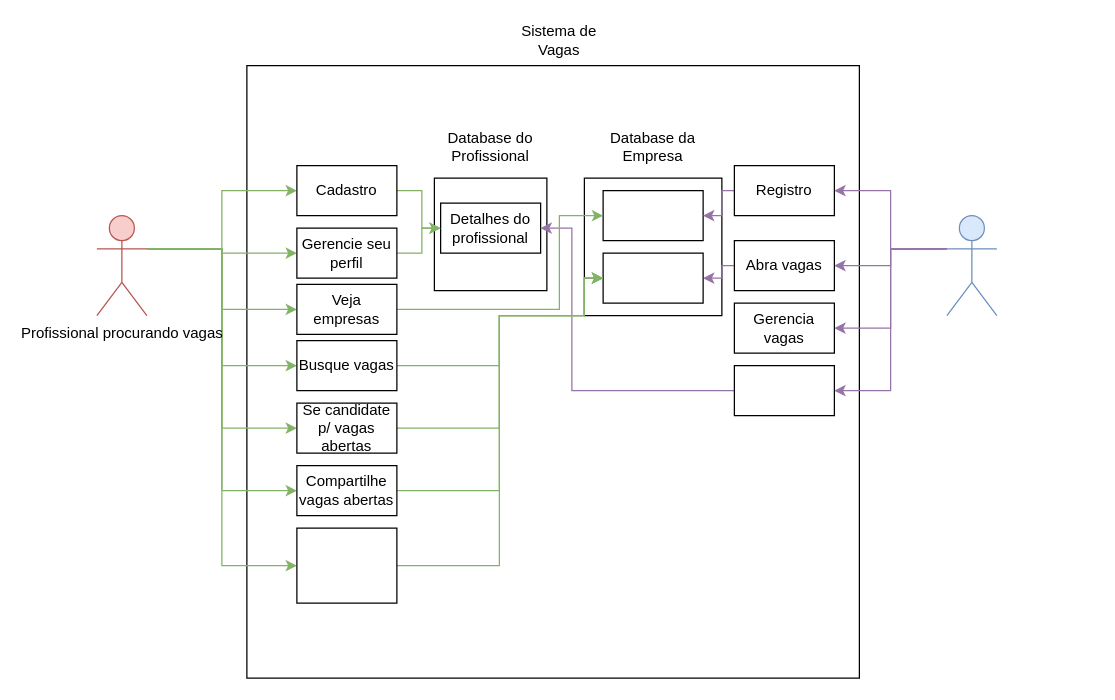
The diagram is 1115 pixels wide and 700 high, and some of its shapes have lost their labels. Here are the shapes that lost their labels. From the top down, the centre of each, then its label:
the point at 652,215: Detalhes da empresa
the point at 652,277: Vagas abertas
the point at 971,265: Empresário procurando profissionais
the point at 783,390: Busque profissionais
the point at 346,565: Acompanhe Status da vaga/ candidatura
